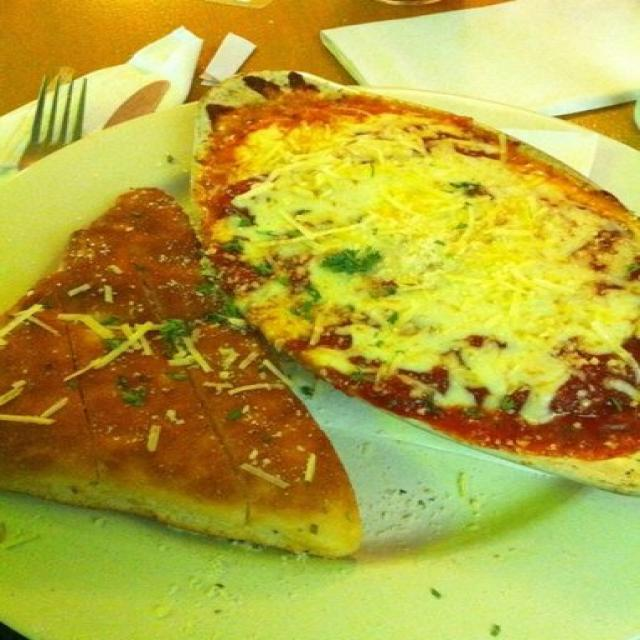Lasagna: (215, 115, 627, 426)
